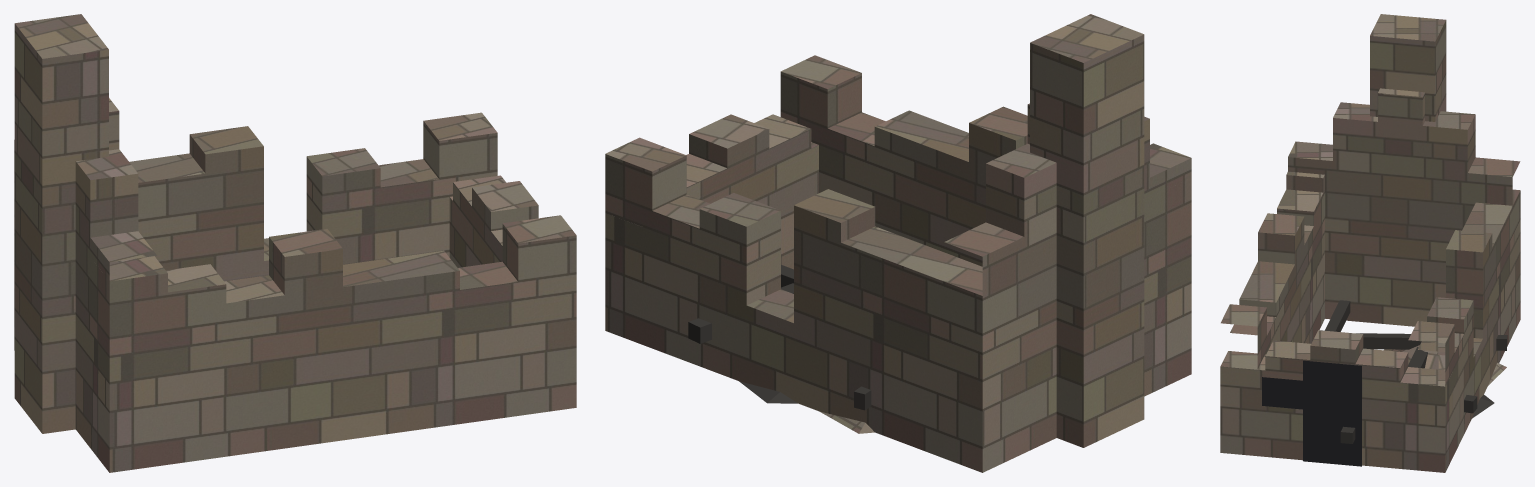
3 renders of one model, left to right at view 1: azimuth 30°, elevation 25°; view 2: azimuth 150°, elevation 25°; view 3: azimuth 270°, elevation 25°, orthographic. The views are drawn at different scales.
Visible parts, largest first — view 1: b001088_ruin_wall; view 2: b001088_ruin_wall, b001088_ruin_char; view 3: b001088_ruin_wall, b001088_ruin_glass, b001088_ruin_char.
Boxes of the visible parts, <box> form: b001088_ruin_wall: <box>14,14,576,472</box>; b001088_ruin_wall: <box>605,14,1191,472</box>; b001088_ruin_char: <box>688,264,871,410</box>; b001088_ruin_wall: <box>1220,14,1520,472</box>; b001088_ruin_glass: <box>1262,360,1361,466</box>; b001088_ruin_char: <box>1325,300,1507,443</box>.
Bounding box in the file's own units: 6.59 × 4.9 × 4.72.
Materials: 3 (1 with a texture image).
